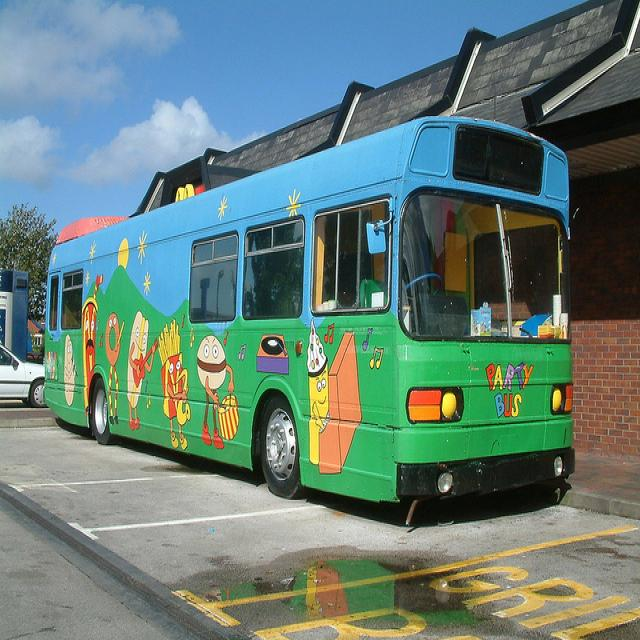Vehicle: (42, 122, 578, 502), (0, 341, 47, 409)
